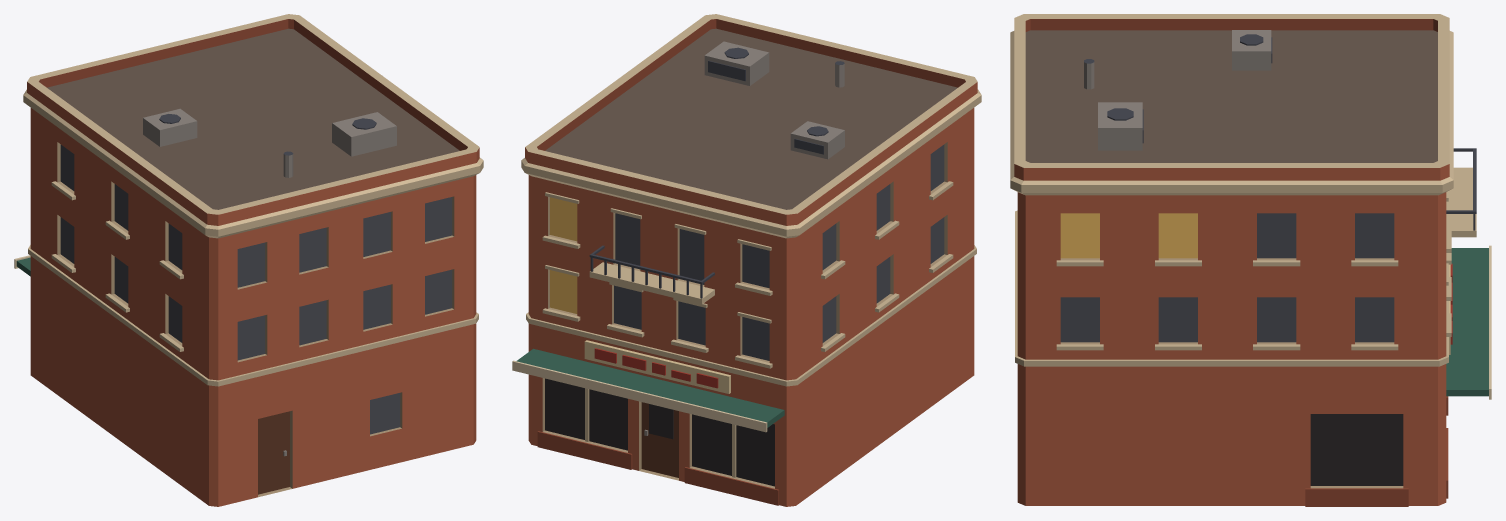
File: Bldg_Shop3.fbx
The picture shows the model from 3 angles, left to right: view 1: azimuth 30°, elevation 25°; view 2: azimuth 150°, elevation 25°; view 3: azimuth 270°, elevation 25°; orthographic projection. The views are drawn at different scales.
Parts seen in each view (by area): view 1: Bldg_Shop3; view 2: Bldg_Shop3; view 3: Bldg_Shop3.
Part boxes in pixels (x1,y1,x2,y2): Bldg_Shop3: [14, 14, 483, 506]; Bldg_Shop3: [512, 14, 981, 506]; Bldg_Shop3: [1010, 14, 1491, 506].
Bounding box in the file's own units: 2084 × 2190 × 2697.
1 material, 1 textured.
